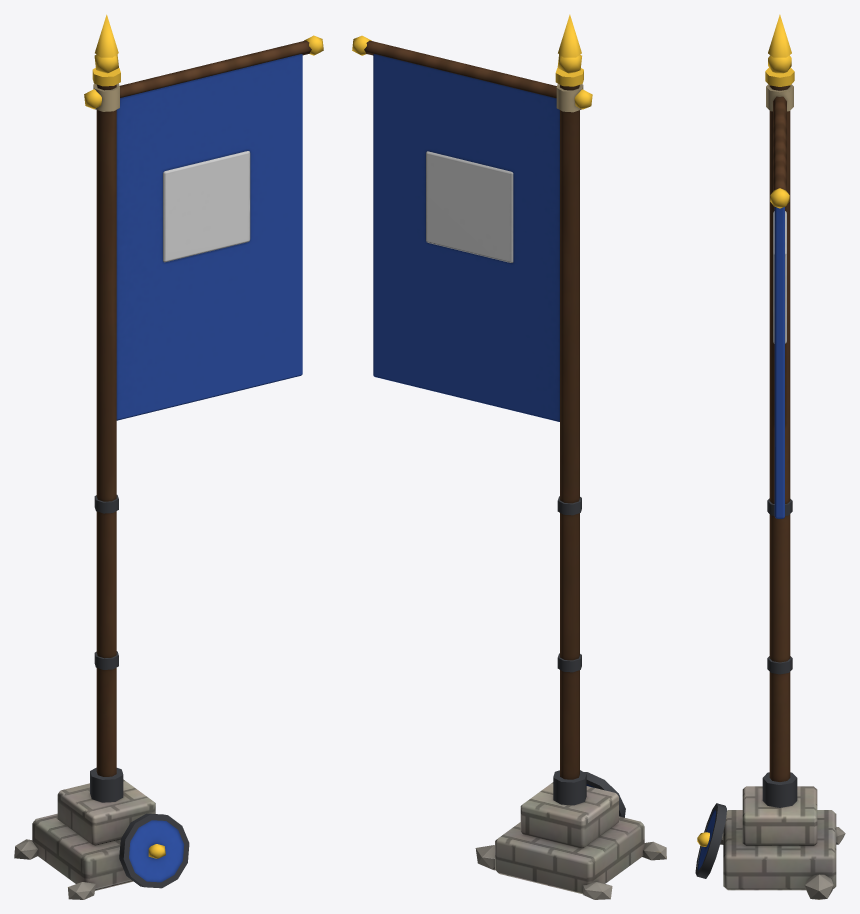
Rendered from banner_blue.glb.
3 views of the same model, side by side, from view 1: azimuth 30°, elevation 25°; view 2: azimuth 150°, elevation 25°; view 3: azimuth 270°, elevation 25° (orthographic).
Parts seen in each view (by area): view 1: cloth; view 2: cloth; view 3: cloth.
Part boxes in pixels (<box>): cloth: <box>14,14,323,899</box>; cloth: <box>352,14,666,899</box>; cloth: <box>695,14,845,899</box>.
Bounding box in the file's own units: 0.3787 × 1.09 × 0.1728.
3 materials, 1 textured.
